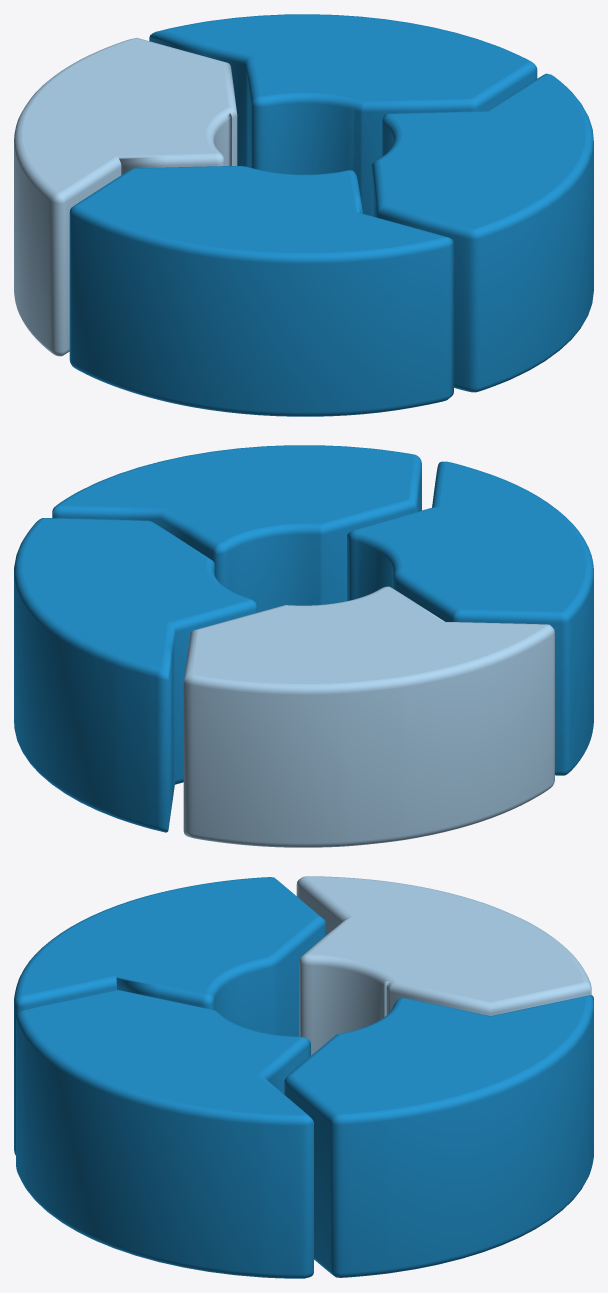
Rendered from digilean3dr.glb.
3 renders of one model, top to bottom at view 1: azimuth 30°, elevation 25°; view 2: azimuth 150°, elevation 25°; view 3: azimuth 270°, elevation 25°, orthographic.
Parts seen in each view (by area): view 1: Curve.002, Curve.003, Curve, Curve.001; view 2: Curve.001, Curve, Curve.003, Curve.002; view 3: Curve.003, Curve, Curve.001, Curve.002.
Boxes of the visible parts, x1=… form: Curve.002: x1=69, y1=166, x2=453, y2=416; Curve.003: x1=371, y1=73, x2=593, y2=392; Curve: x1=149, y1=14, x2=537, y2=215; Curve.001: x1=14, y1=38, x2=237, y2=356; Curve.001: x1=183, y1=586, x2=554, y2=847; Curve: x1=14, y1=518, x2=257, y2=832; Curve.003: x1=52, y1=445, x2=421, y2=612; Curve.002: x1=347, y1=461, x2=593, y2=775; Curve.003: x1=16, y1=989, x2=313, y2=1278; Curve: x1=284, y1=995, x2=593, y2=1277; Curve.001: x1=296, y1=876, x2=591, y2=1055; Curve.002: x1=14, y1=877, x2=326, y2=1155.
Size of the model in its own units: 0.0709 by 0.022 by 0.071.
